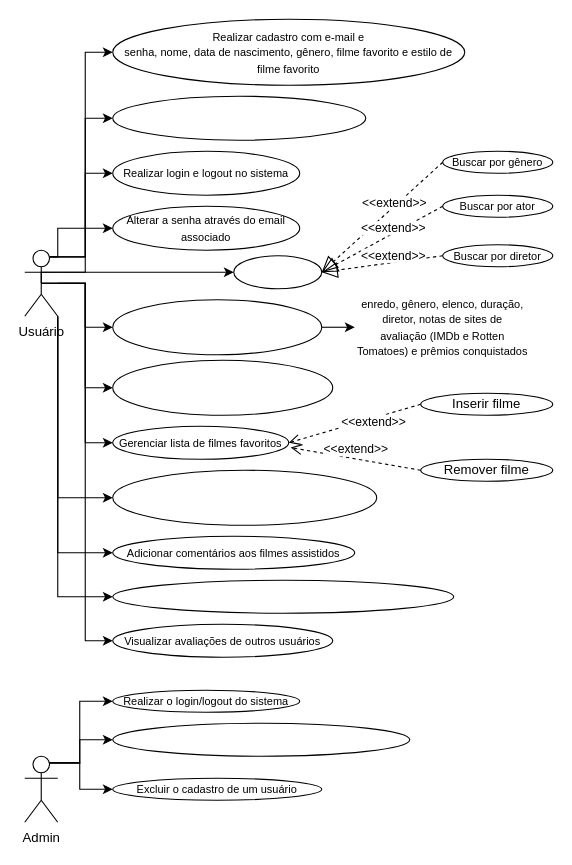
Some shapes in this 572 by 865 pixel diagram are drawn without their labels. The shapes that lost their labels are listed below. From the top down, each one's centre as x and y in pixels, then its label:
At point 239,117: "Confirmar e-mail por meio de código de confirmação".
At point 277,272: "Buscar filmes".
At point 217,327: "Observar as informações básicas do filme".
At point 222,387: "Observar as plataformas de streaming que o filme desejado está presente;".
At point 244,497: "Adicionar avaliações por corações aos filmes assistidos".
At point 283,596: "Pesquisar por outros usuários através do login do outro usuário".
At point 261,739: "Visualizar a listagem de todos os usuários cadastrados".
